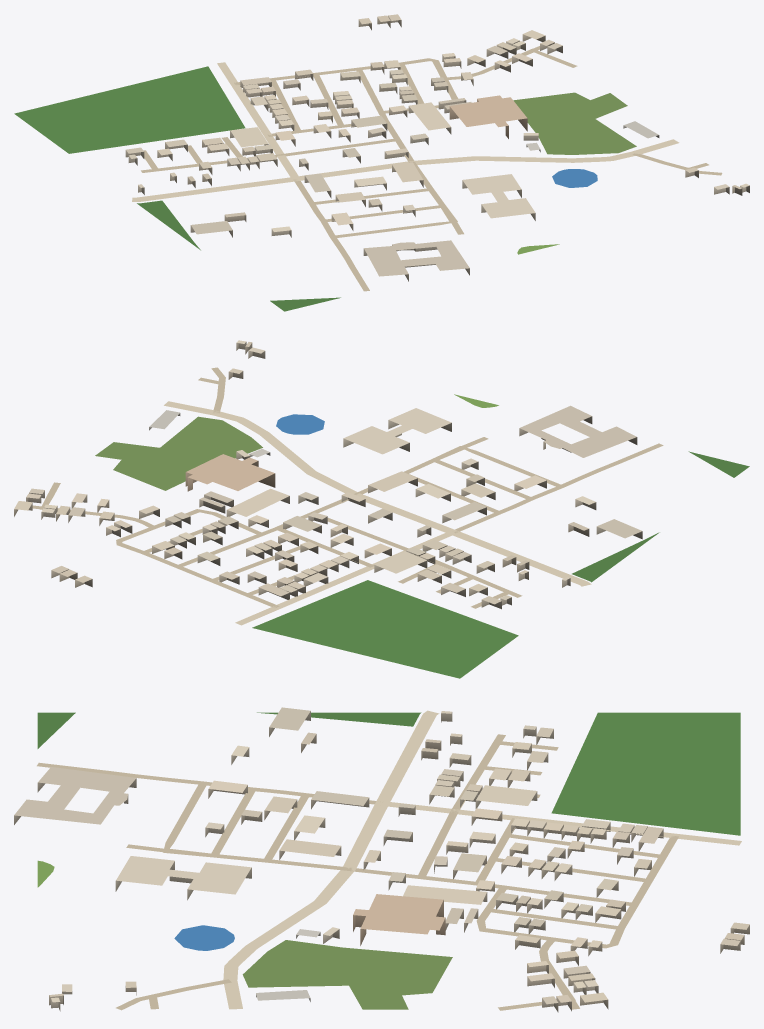
The picture shows the model from 3 angles, top to bottom: view 1: azimuth 30°, elevation 25°; view 2: azimuth 150°, elevation 25°; view 3: azimuth 270°, elevation 25°; orthographic projection. The views are drawn at different scales.
Parts seen in each view (by area): view 1: ground, building, water; view 2: ground, building, water; view 3: ground, building, water.
Part boxes in pixels (x1=…): ground: x1=14, y1=46, x2=722, y2=311; building: x1=125, y1=14, x2=749, y2=281; water: x1=552, y1=169, x2=597, y2=187; ground: x1=32, y1=367, x2=749, y2=678; building: x1=14, y1=340, x2=642, y2=609; water: x1=276, y1=414, x2=324, y2=434; ground: x1=37, y1=710, x2=741, y2=1010; building: x1=14, y1=707, x2=749, y2=1012; water: x1=174, y1=925, x2=234, y2=950.
Bounding box in the file's own units: 509 × 14 × 523.
